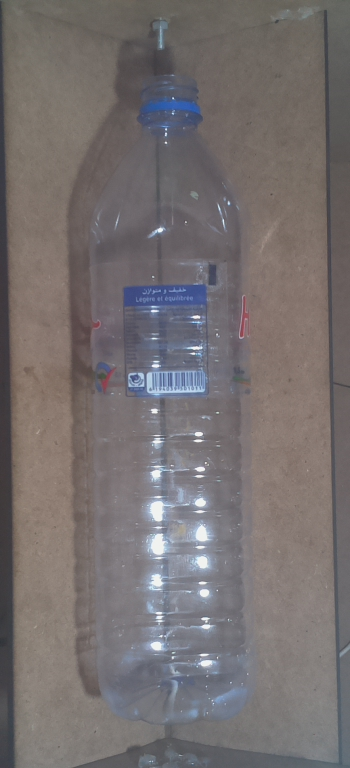Bouteille_1.5L: (76, 62, 273, 732)
